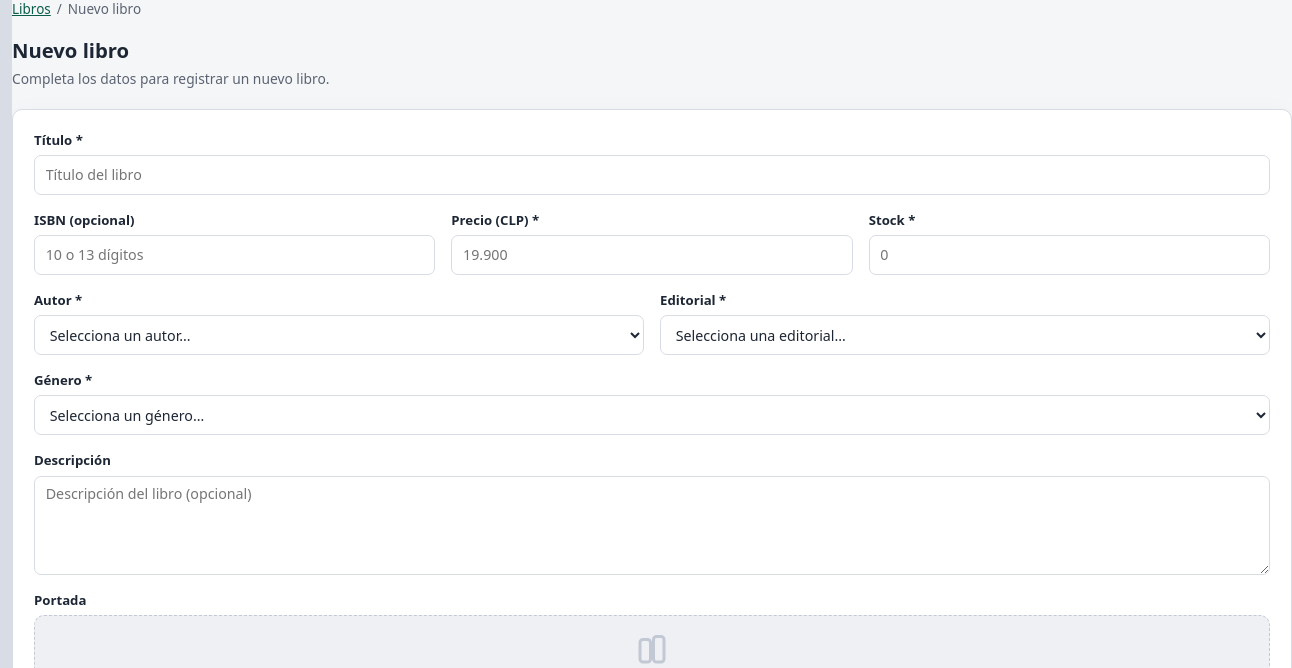
Test: BookFormPage (create) › shows the Spanish heading and required messages on submit
Expected: the heading "Nuevo libro" is shown, top-left (12, 36), bottom-right (129, 64)
Clear the field labelled "Título *" at (652, 175), box top-left (34, 155), bottom-right (1270, 195)
(page scrolled)
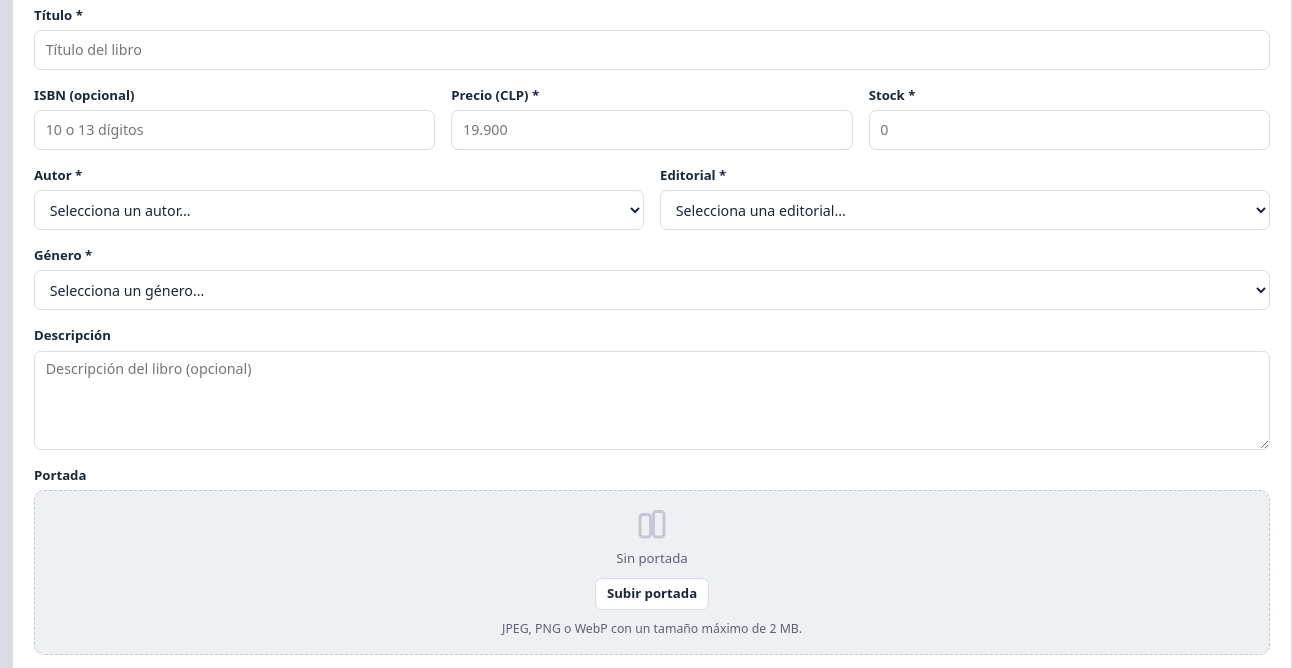
Submit the text "Guardar"
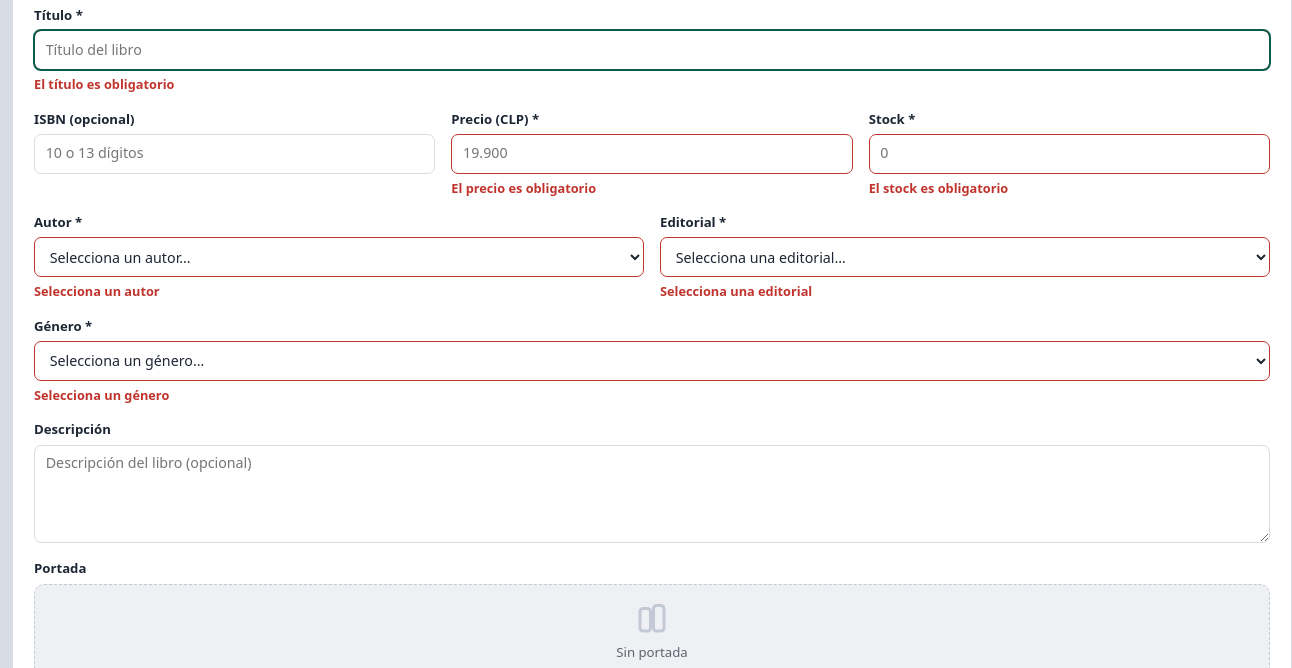
Expected: the text "El título es obligatorio" is shown, top-left (34, 75), bottom-right (174, 93)
